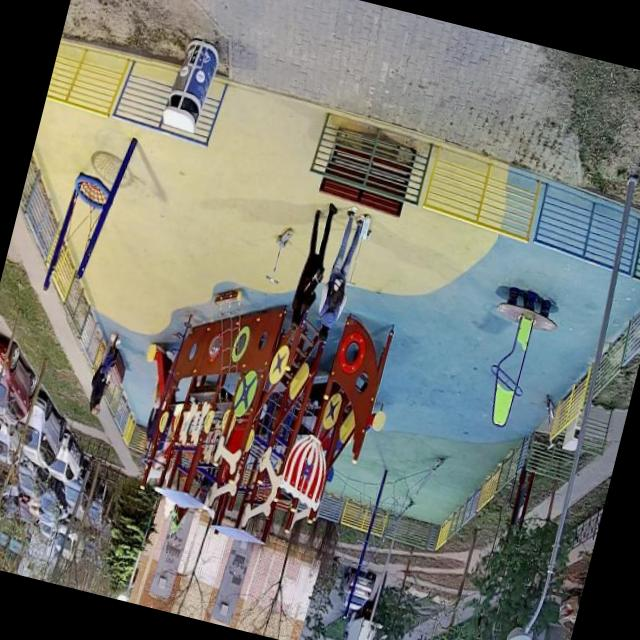person: (309, 210, 366, 345), (285, 206, 336, 330), (83, 334, 120, 422)
